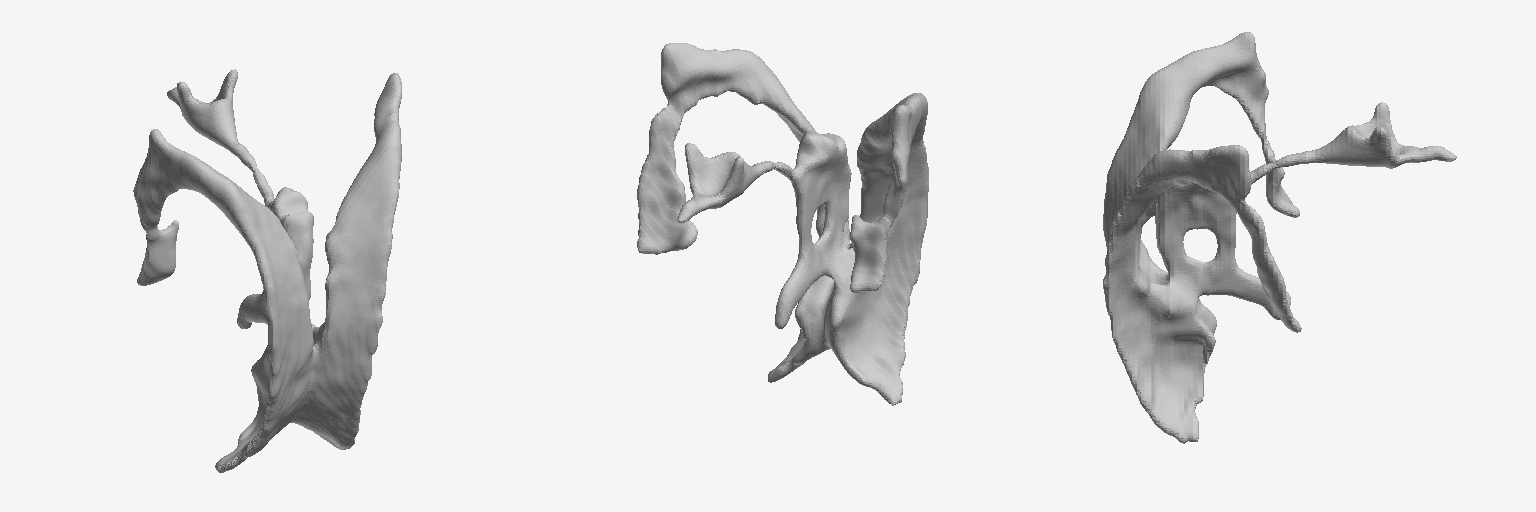
Rendered from ventricle.obj.
3 renders of one model, left to right at view 1: azimuth 30°, elevation 25°; view 2: azimuth 150°, elevation 25°; view 3: azimuth 270°, elevation 25°, orthographic.
Size of the model in its own units: 6.38 by 7.89 by 7.52.